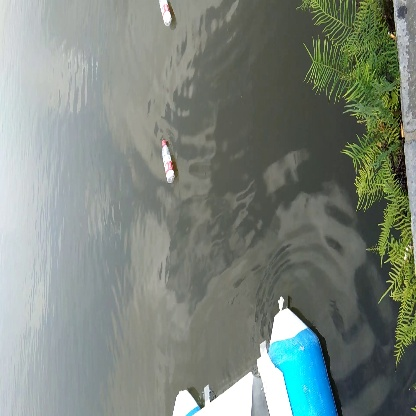bottle: (159, 138, 181, 183)
